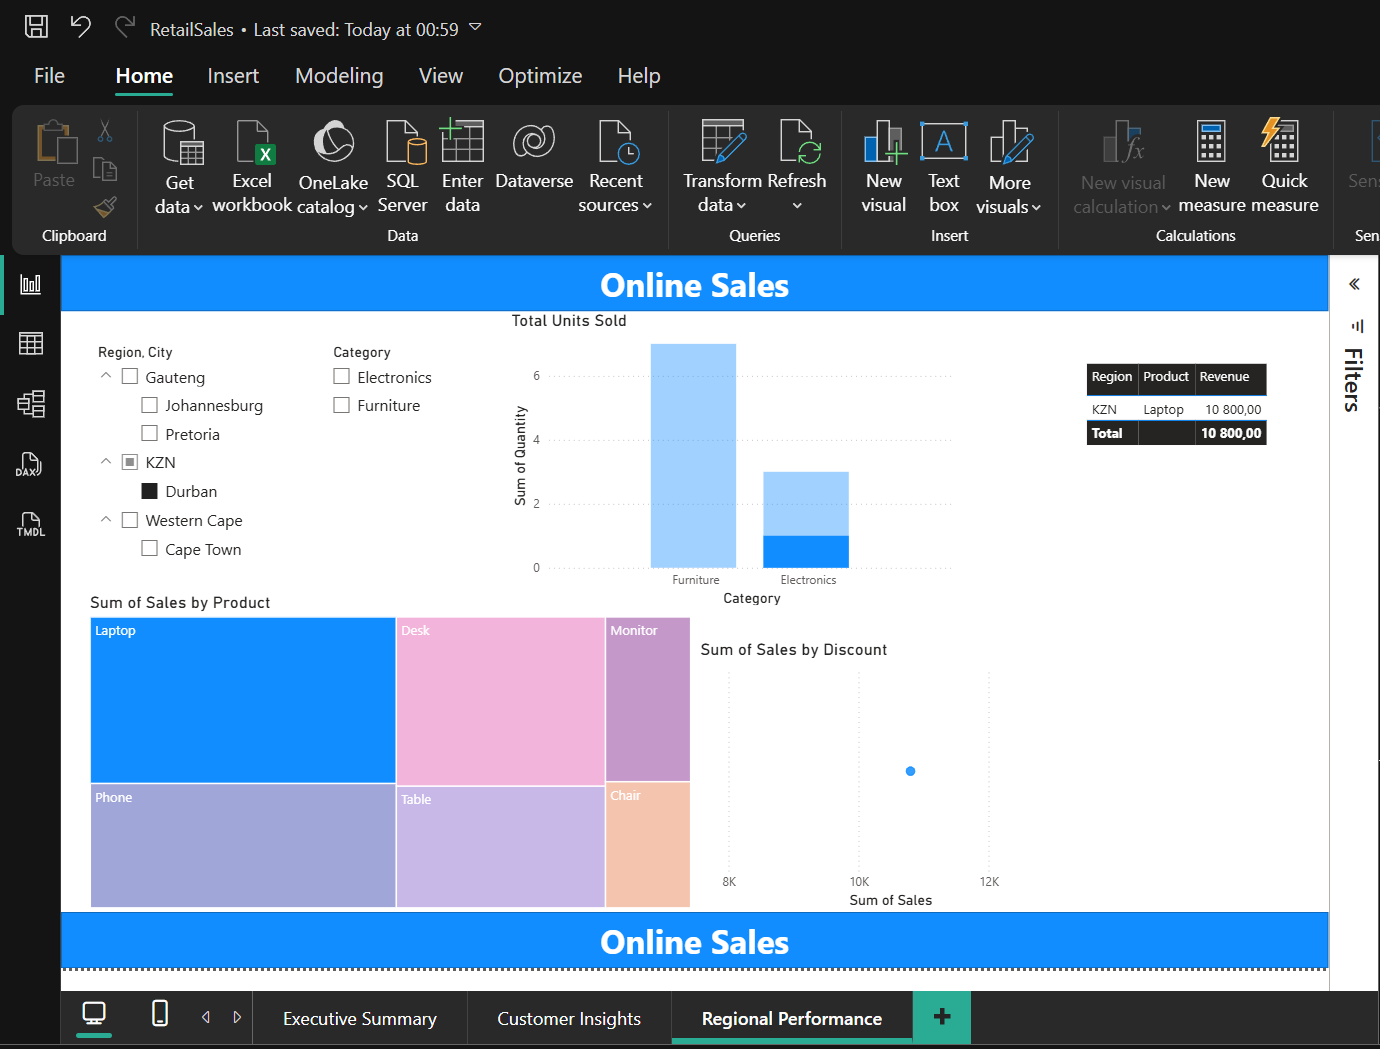

What the dashboard file says about the page in this screenshot:
{"tool":"powerbi","page":{"name":"Regional Performance","canvas":[1280,720],"ordinal":2},"visuals":[{"type":"tableEx","fields":{"Values":["SaleTable_Clean_Dedup.Region","Products.Product","Sum(SaleTable_Clean_Dedup.Sales)"]},"box":[1029.9,103.9,249.5,472.4],"z":0},{"type":"treemap","fields":{"Group":["Products.Product"],"Values":["Sum(SaleTable_Clean_Dedup.Sales)"]},"box":[24.6,340.2,616.1,323.2],"z":1},{"type":"scatterChart","fields":{"Category":["SaleTable_Clean_Dedup.Discount"],"X":["Sum(SaleTable_Clean_Dedup.Sales)"]},"box":[640.6,387.4,376.1,275.9],"z":2},{"type":"slicer","fields":{"Values":["SaleTable_Clean_Dedup.Category"]},"box":[262.7,85,187.1,128.5],"z":3},{"type":"slicer","fields":{"Values":["SaleTable_Clean_Dedup.Region","SaleTable_Clean_Dedup.City"]},"box":[24.6,85,187.1,255.1],"z":4},{"type":"columnChart","title":"Total Units Sold","fields":{"Category":["SaleTable_Clean_Dedup.Category"],"Y":["Sum(SaleTable_Clean_Dedup.Quantity)"]},"box":[449.8,56.7,457.3,302.4],"z":5},{"type":"shape","title":"Online Shop","box":[0,663.3,1279.4,56.7],"z":6},{"type":"shape","title":"Online Shop","box":[0,0,1279.4,56.7],"z":7}]}

Visuals, with their boxes on the page's 1280x720 design canvas (x1, y1, x2, y2). These are canvas units, not pixel positions in the 1380x1049 screenshot, which may show the page scaled, cropped or inside an application window:
tableEx - SaleTable_Clean_Dedup.Region x Products.Product: 1030,104,1279,576
treemap - Products.Product x Sum(SaleTable_Clean_Dedup.Sales): 25,340,641,663
scatterChart - SaleTable_Clean_Dedup.Discount x Sum(SaleTable_Clean_Dedup.Sales): 641,387,1017,663
slicer - SaleTable_Clean_Dedup.Category: 263,85,450,214
slicer - SaleTable_Clean_Dedup.Region x SaleTable_Clean_Dedup.City: 25,85,212,340
"Total Units Sold" columnChart: 450,57,907,359
"Online Shop" shape: 0,663,1279,720
"Online Shop" shape: 0,0,1279,57
